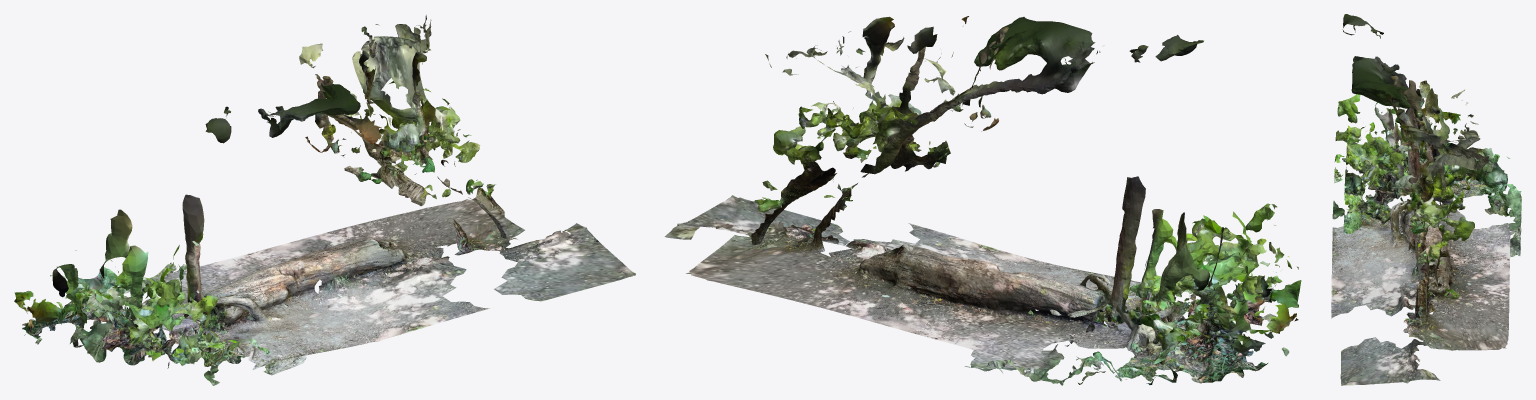
File: tree-trunk.glb
The picture shows the model from 3 angles, left to right: view 1: azimuth 30°, elevation 25°; view 2: azimuth 150°, elevation 25°; view 3: azimuth 270°, elevation 25°; orthographic projection. The views are drawn at different scales.
Visible parts, largest first — view 1: Mesh_0; view 2: Mesh_0; view 3: Mesh_0.
Part boxes in pixels (x1,y1,x2,y2): Mesh_0: (14,15,635,385); Mesh_0: (664,16,1301,385); Mesh_0: (1331,14,1521,385).
Bounding box in the file's own units: 7.24 × 3.22 × 2.61.
2 materials, 2 textured.
